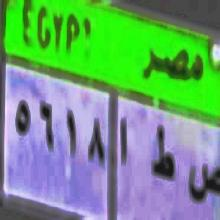1: (63, 105, 78, 162)
5: (12, 100, 32, 145)
6: (39, 100, 55, 156)
8: (88, 112, 105, 174)
Taa: (153, 124, 175, 188)
alif: (117, 115, 131, 169)
saad: (189, 144, 220, 208)
